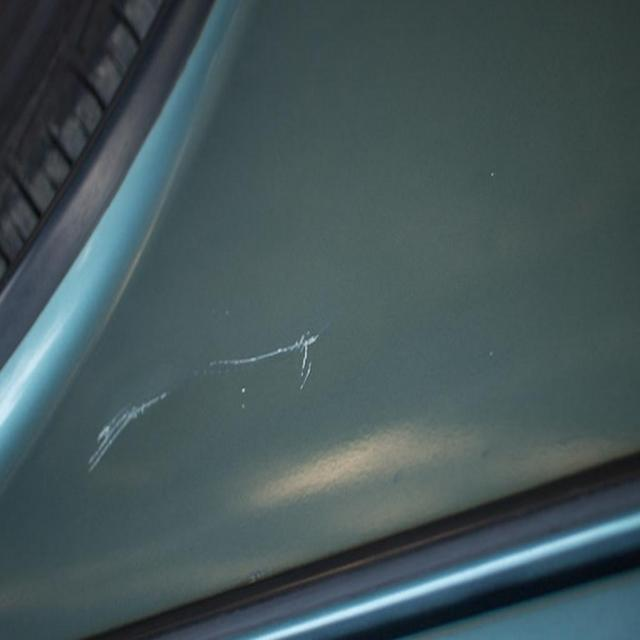scratch: (70, 318, 328, 486)
